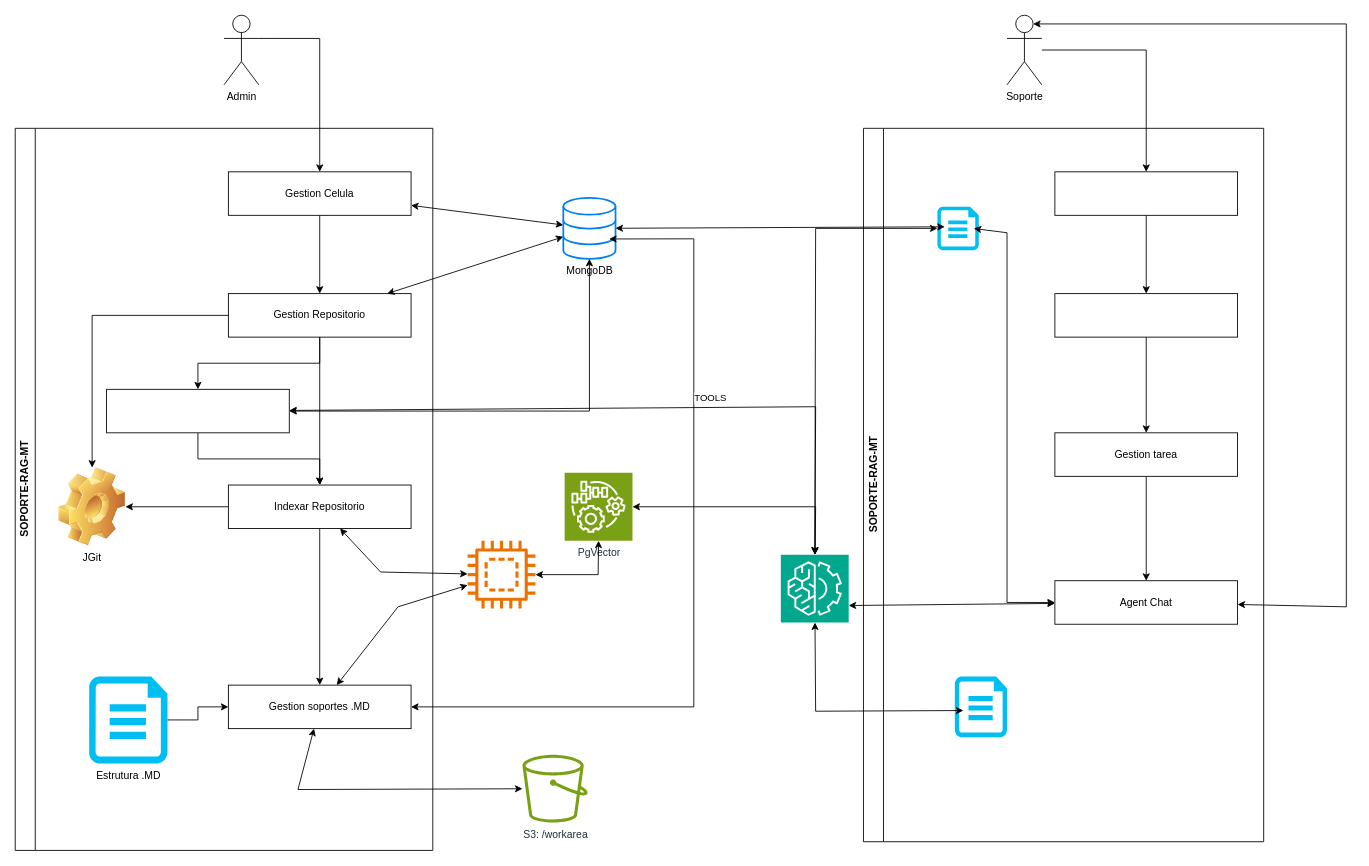
The diagram is 1369 pixels wide and 866 high, and some of its shapes have lost their labels. The shapes that lost their labels are listed below. From the top down, each one's centre as x and y in pixels, then its label:
pixel 1146 193: Seleccionar Celula
pixel 957 228: Historial CHAT
pixel 1146 315: Seleccionar Repo
pixel 197 410: Asignar Tools (Url Consulta)
pixel 501 574: Embeding: OpenIA / LLAMA
pixel 814 588: OpenIA / LLAMA
pixel 980 706: PROMPT
